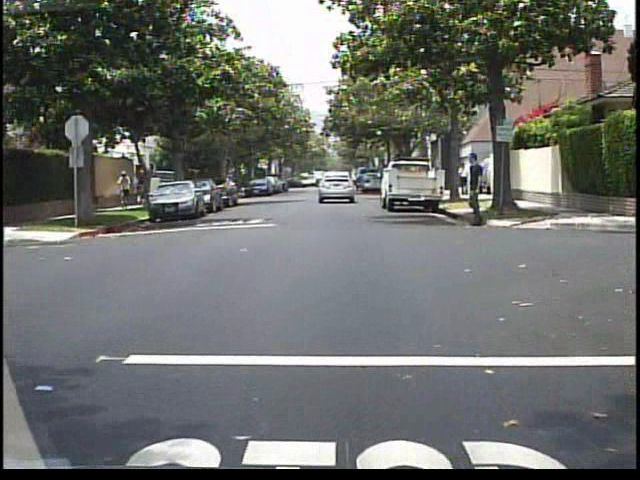person: (459, 153, 502, 232), (114, 167, 137, 204), (171, 169, 189, 204), (458, 161, 470, 197)
